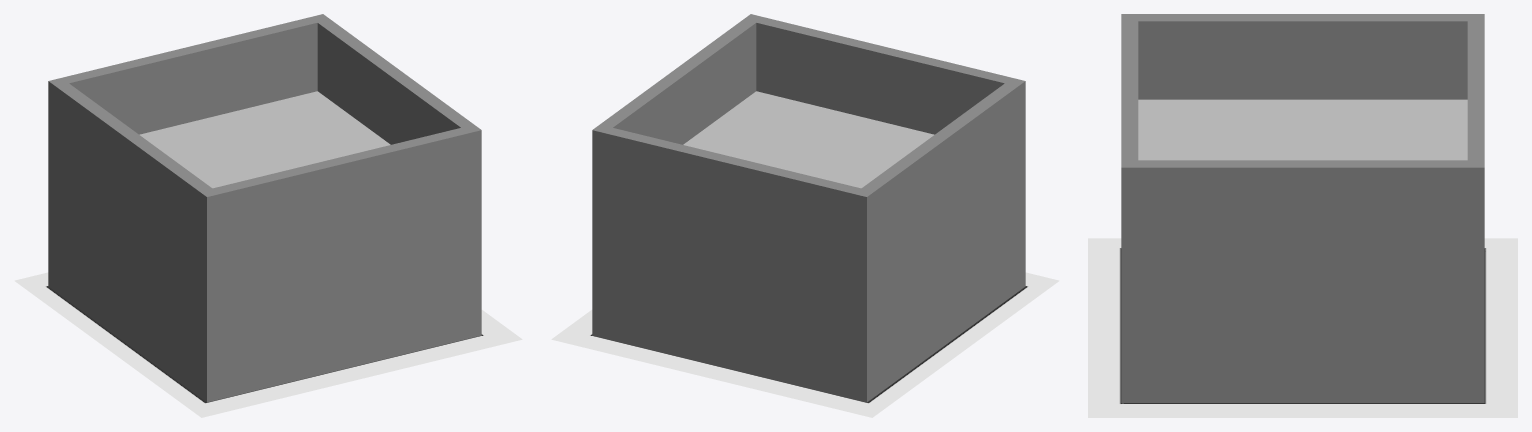
The model's file is jardiniere.FBX.
3 views of the same model, side by side, from view 1: azimuth 30°, elevation 25°; view 2: azimuth 150°, elevation 25°; view 3: azimuth 270°, elevation 25° (orthographic). The views are drawn at different scales.
Visible parts, largest first — view 1: jardiniere, ground, AO; view 2: jardiniere, ground, AO; view 3: jardiniere, ground, AO.
Part boxes in pixels (<box>): jardiniere: <box>48,14,481,402</box>; ground: <box>139,91,390,188</box>; AO: <box>14,272,522,417</box>; jardiniere: <box>592,14,1025,402</box>; ground: <box>683,91,934,188</box>; AO: <box>551,272,1059,417</box>; jardiniere: <box>1121,14,1484,402</box>; ground: <box>1138,99,1467,160</box>; AO: <box>1088,238,1517,417</box>.
Bounding box in the file's own units: 98.23 × 99.29 × 60.
